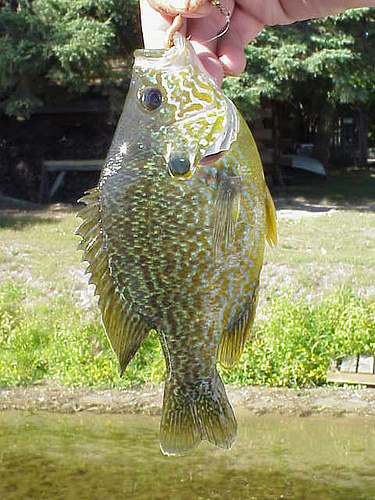fish: (75, 38, 278, 457)
